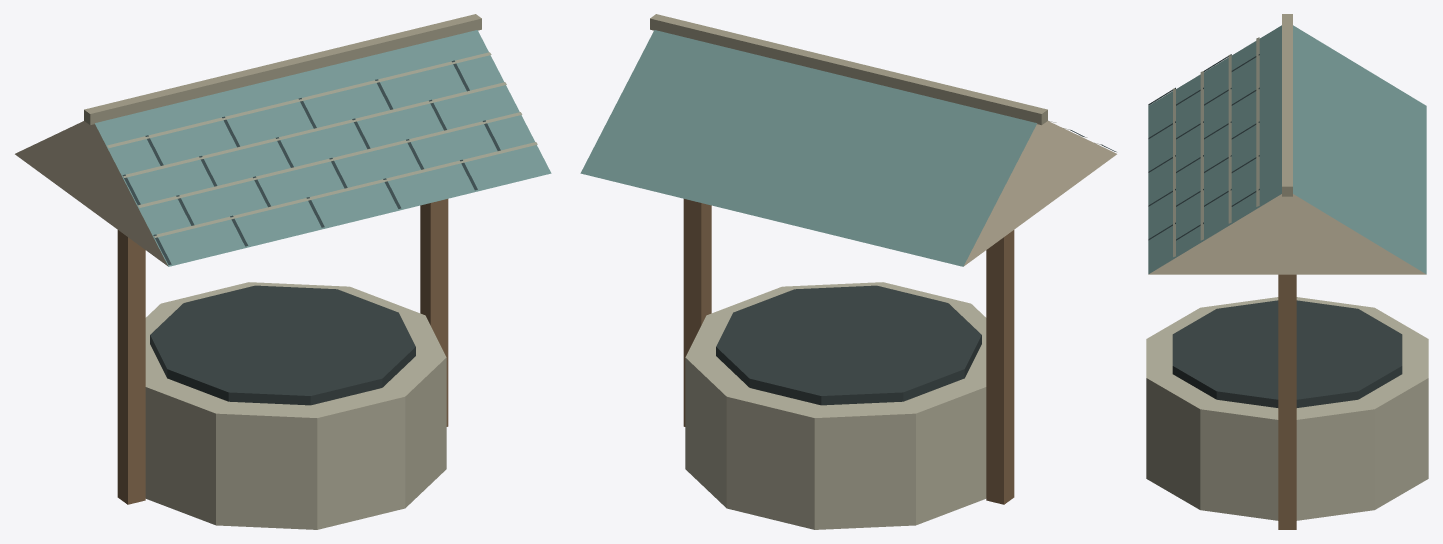
Rendered from well.glb.
3 renders of one model, left to right at view 1: azimuth 30°, elevation 25°; view 2: azimuth 150°, elevation 25°; view 3: azimuth 270°, elevation 25°, orthographic. The views are drawn at different scales.
Parts seen in each view (by area): view 1: Building; view 2: Building; view 3: Building.
Boxes of the visible parts, left/top/right/bottom form: Building: left=15, top=14, right=551, bottom=529; Building: left=580, top=14, right=1116, bottom=529; Building: left=1146, top=14, right=1428, bottom=529.
Bounding box in the file's own units: 44 × 42.7 × 30.43.
